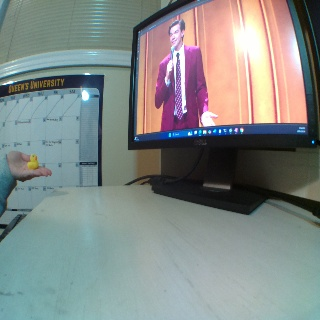duck_regular: (26, 153, 38, 169)
